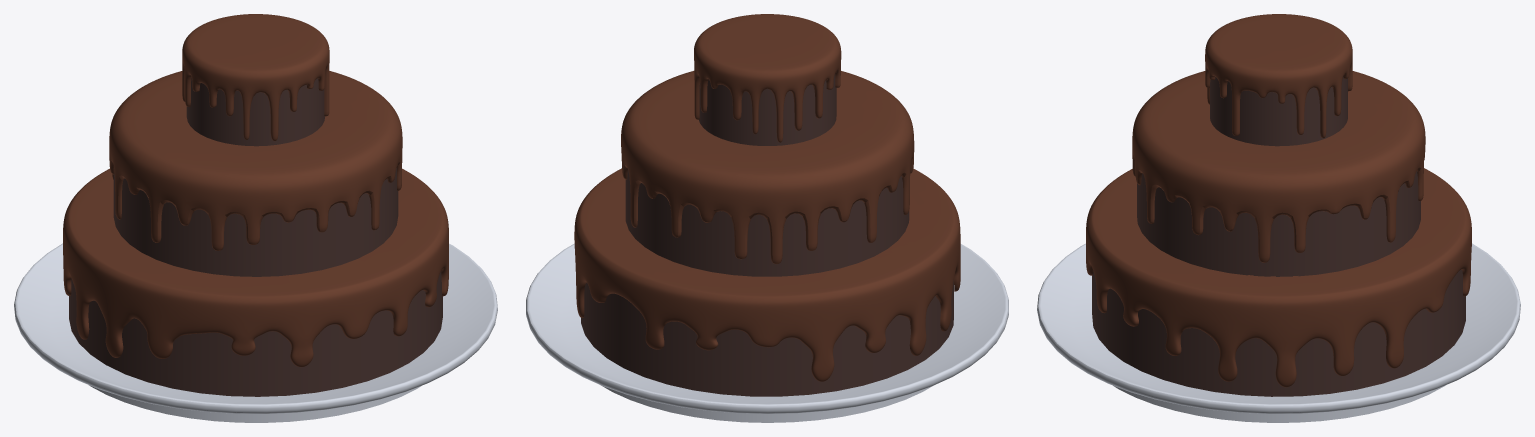
File: cake_layer_3_v2.glb
The picture shows the model from 3 angles, left to right: view 1: azimuth 30°, elevation 25°; view 2: azimuth 150°, elevation 25°; view 3: azimuth 270°, elevation 25°; orthographic projection.
Parts seen in each view (by area): view 1: chocolate_details, chocolate_base, chocolate_dish; view 2: chocolate_details, chocolate_base, chocolate_dish; view 3: chocolate_details, chocolate_base, chocolate_dish.
Part boxes in pixels (bbox=[...]): chocolate_details: bbox=[63, 14, 448, 367]; chocolate_base: bbox=[69, 78, 442, 396]; chocolate_dish: bbox=[14, 243, 497, 422]; chocolate_details: bbox=[574, 14, 960, 381]; chocolate_base: bbox=[581, 74, 953, 396]; chocolate_dish: bbox=[526, 243, 1008, 422]; chocolate_details: bbox=[1086, 14, 1471, 387]; chocolate_base: bbox=[1092, 77, 1465, 396]; chocolate_dish: bbox=[1037, 243, 1520, 422].
Size of the model in its own units: 4.78 by 3.23 by 4.78.
